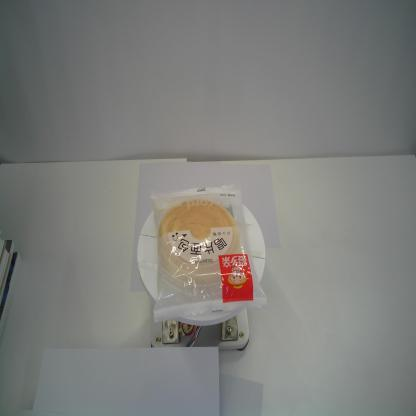Dessert: (150, 182, 267, 323)
